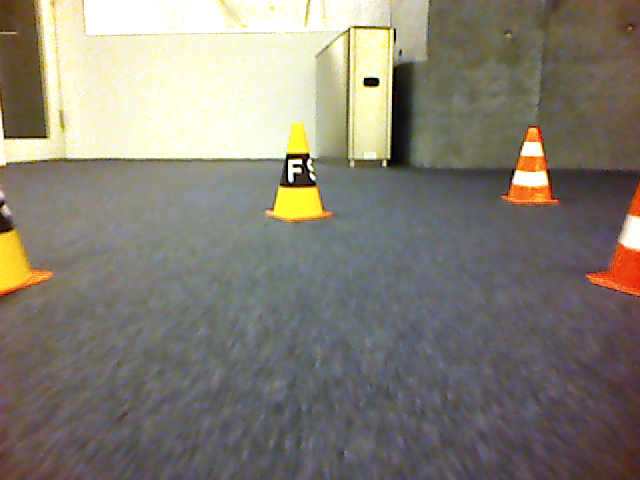orangeconesmall: (499, 124, 563, 206)
yellowcone: (263, 122, 334, 223)
